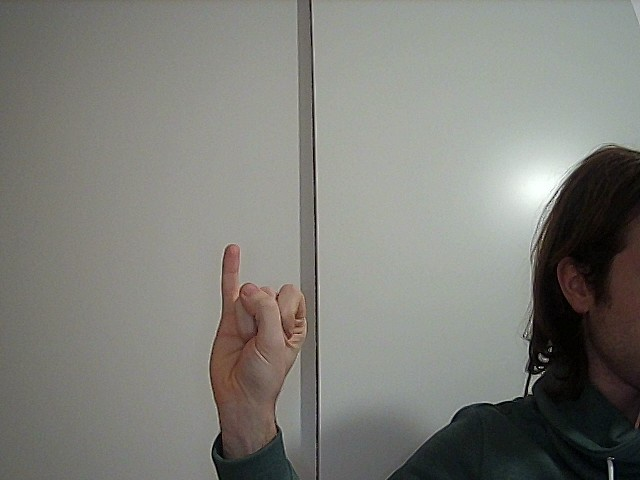i: (200, 235, 328, 381)
